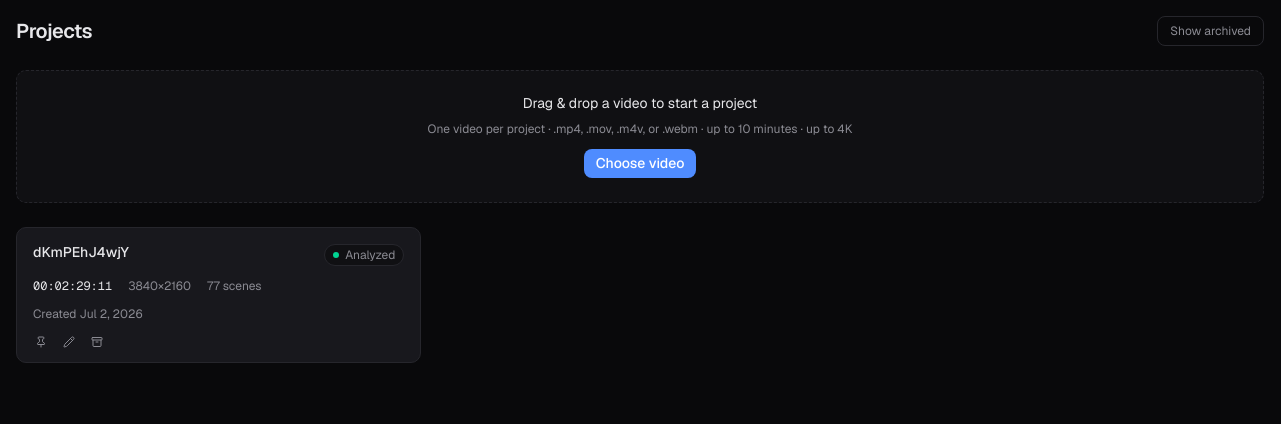
Test case: ProjectsScreen management › pins a project via the pin button and re-renders it as pinned
Expected: the link "dKmPEhJ4wjY" is shown, [17,228,420,330]
Click the button named "Pin project": [41, 342] box [29,330,53,354]
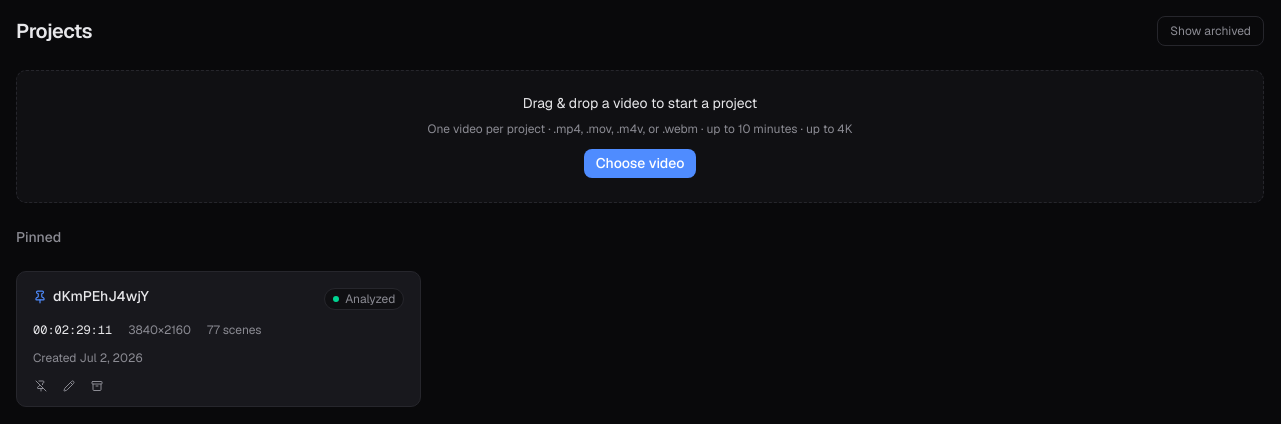
Result: the button named "Unpin project" is shown at [29,374,53,398]
Result: the heading "Pinned" is shown at [16,228,61,246]
